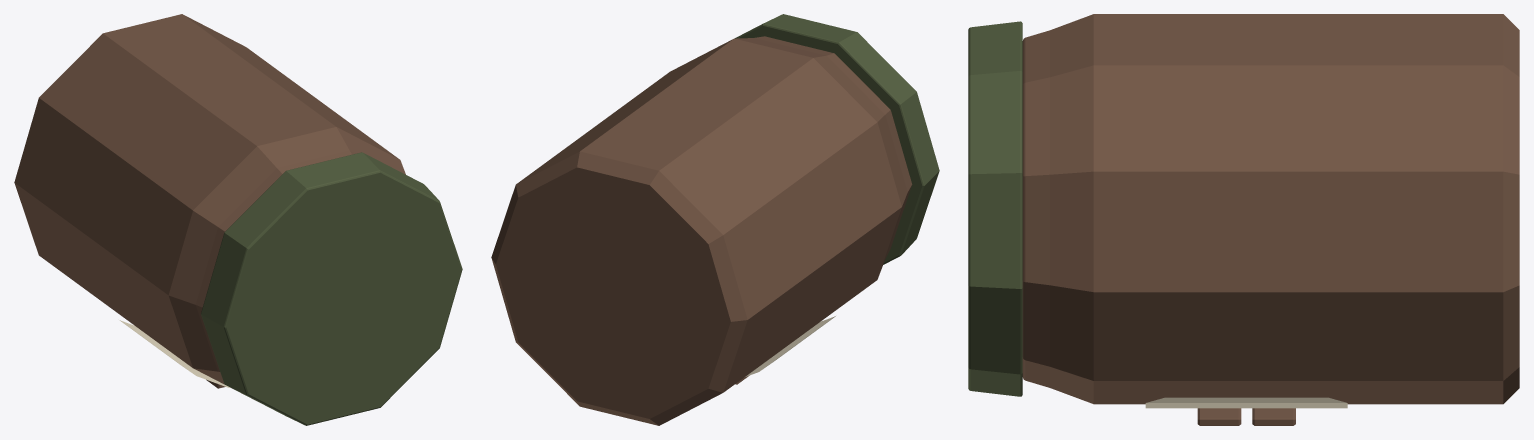
Rendered from chocolate_spread.glb.
The picture shows the model from 3 angles, left to right: view 1: azimuth 30°, elevation 25°; view 2: azimuth 150°, elevation 25°; view 3: azimuth 270°, elevation 25°; orthographic projection. The views are drawn at different scales.
Parts seen in each view (by area): view 1: chocolate_spread; view 2: chocolate_spread; view 3: chocolate_spread.
Part boxes in pixels (<box>): chocolate_spread: <box>14,14,462,425</box>; chocolate_spread: <box>491,14,939,425</box>; chocolate_spread: <box>968,14,1519,425</box>.
Size of the model in its own units: 0.072 by 0.073 by 0.101.
